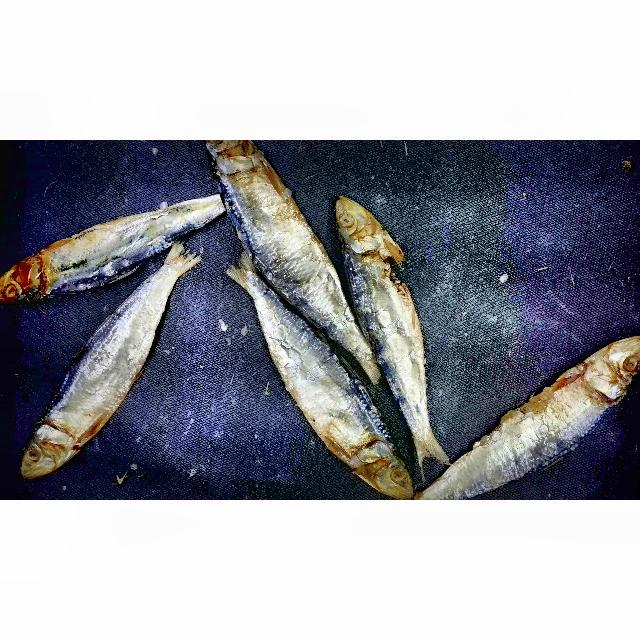Grade_C_Body: (53, 279, 173, 426), (218, 177, 342, 314), (462, 370, 591, 500), (57, 184, 210, 291), (340, 257, 440, 419), (255, 315, 375, 448)
Grade_C_Head: (573, 329, 640, 416), (332, 189, 406, 267), (15, 417, 85, 481), (349, 440, 419, 498), (0, 248, 56, 313)
Grade_C_Tail: (407, 426, 451, 469), (223, 251, 263, 292)
